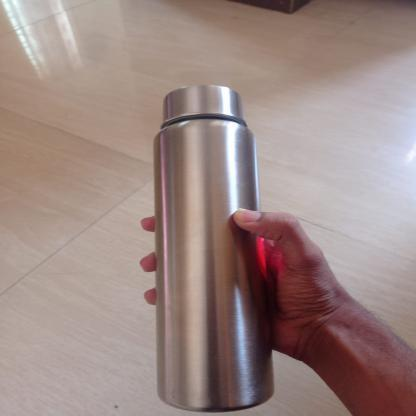bottle: (153, 79, 276, 416)
